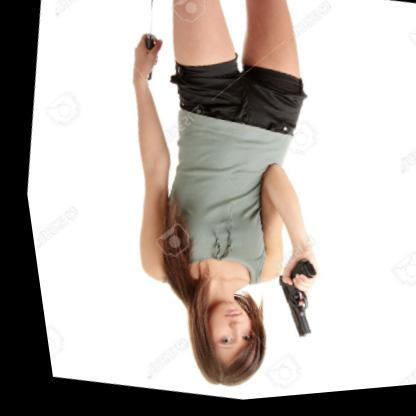pistol: (252, 259, 324, 349)
